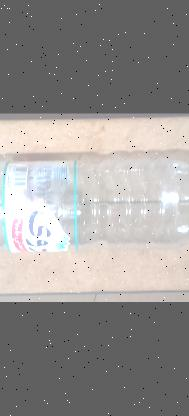Plastic Bottle: (0, 158, 189, 253)
